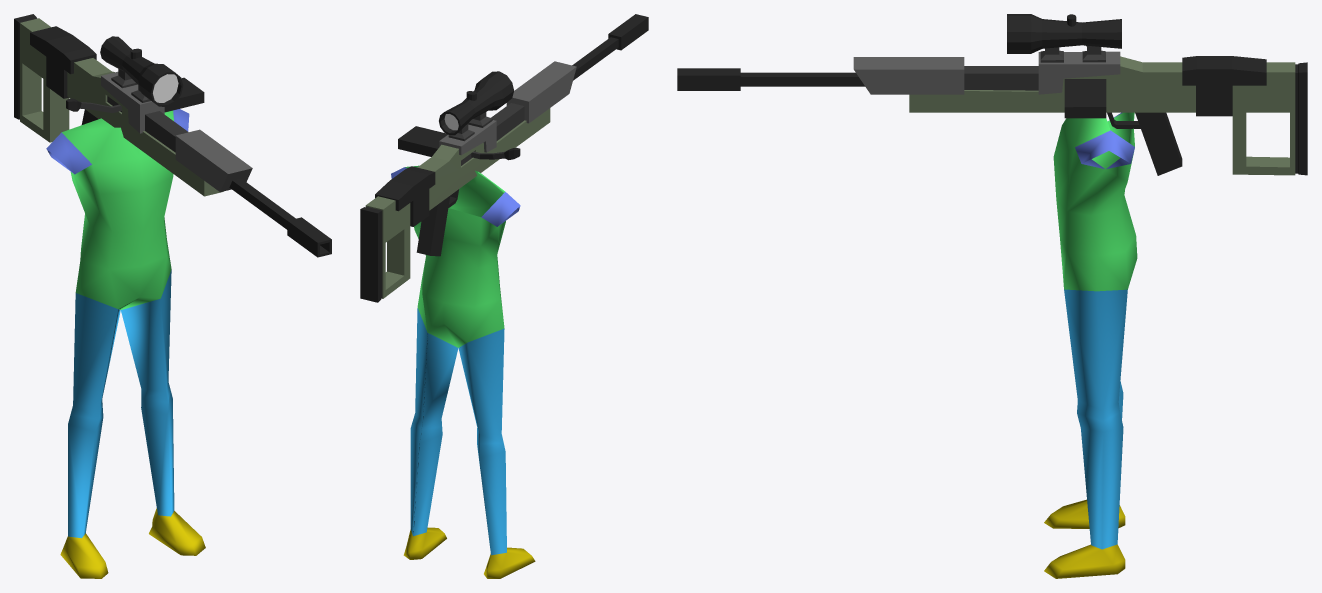
The model's file is Humanoid.glb.
The picture shows the model from 3 angles, left to right: view 1: azimuth 30°, elevation 25°; view 2: azimuth 150°, elevation 25°; view 3: azimuth 270°, elevation 25°; orthographic projection. The views are drawn at different scales.
Visible parts, largest first — view 1: HumanoidBase_Overlapping, Body, Upper_Body, Scope, Magazine, Lens, Stick; view 2: HumanoidBase_Overlapping, Body, Upper_Body, Scope, Magazine, Stick; view 3: HumanoidBase_Overlapping, Body, Upper_Body, Scope, Magazine.
Boxes of the visible parts, <box> form: HumanoidBase_Overlapping: <box>46,109,205,578</box>; Body: <box>14,14,223,196</box>; Upper_Body: <box>101,71,331,257</box>; Scope: <box>100,36,183,106</box>; Magazine: <box>164,77,204,112</box>; Lens: <box>153,74,178,102</box>; Stick: <box>66,98,121,112</box>; HumanoidBase_Overlapping: <box>391,165,535,578</box>; Body: <box>360,108,550,302</box>; Upper_Body: <box>439,14,648,155</box>; Scope: <box>439,71,513,141</box>; Magazine: <box>398,126,447,156</box>; Stick: <box>471,147,520,160</box>; HumanoidBase_Overlapping: <box>1044,112,1137,578</box>; Body: <box>909,56,1307,175</box>; Upper_Body: <box>677,51,1120,94</box>; Scope: <box>1007,14,1121,62</box>; Magazine: <box>1064,79,1106,118</box>.
Bounding box in the file's own units: 0.5286 × 1.79 × 1.93.
3 materials, 2 textured.
